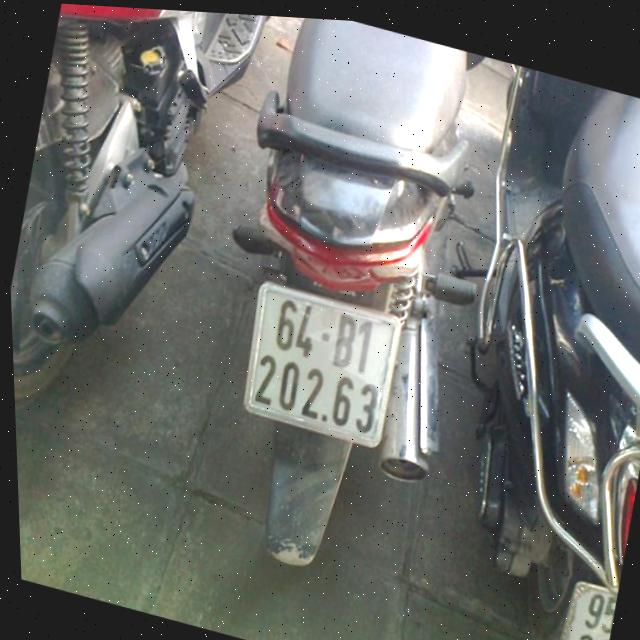motorcycle: (164, 10, 537, 612), (368, 52, 640, 640), (0, 0, 289, 467)
plate: (229, 271, 413, 460), (546, 569, 622, 640)
